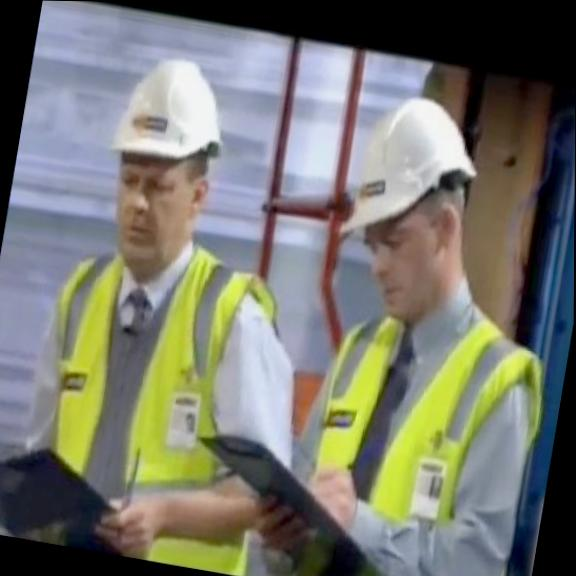safety_vest: (19, 207, 297, 576), (293, 280, 558, 576)
